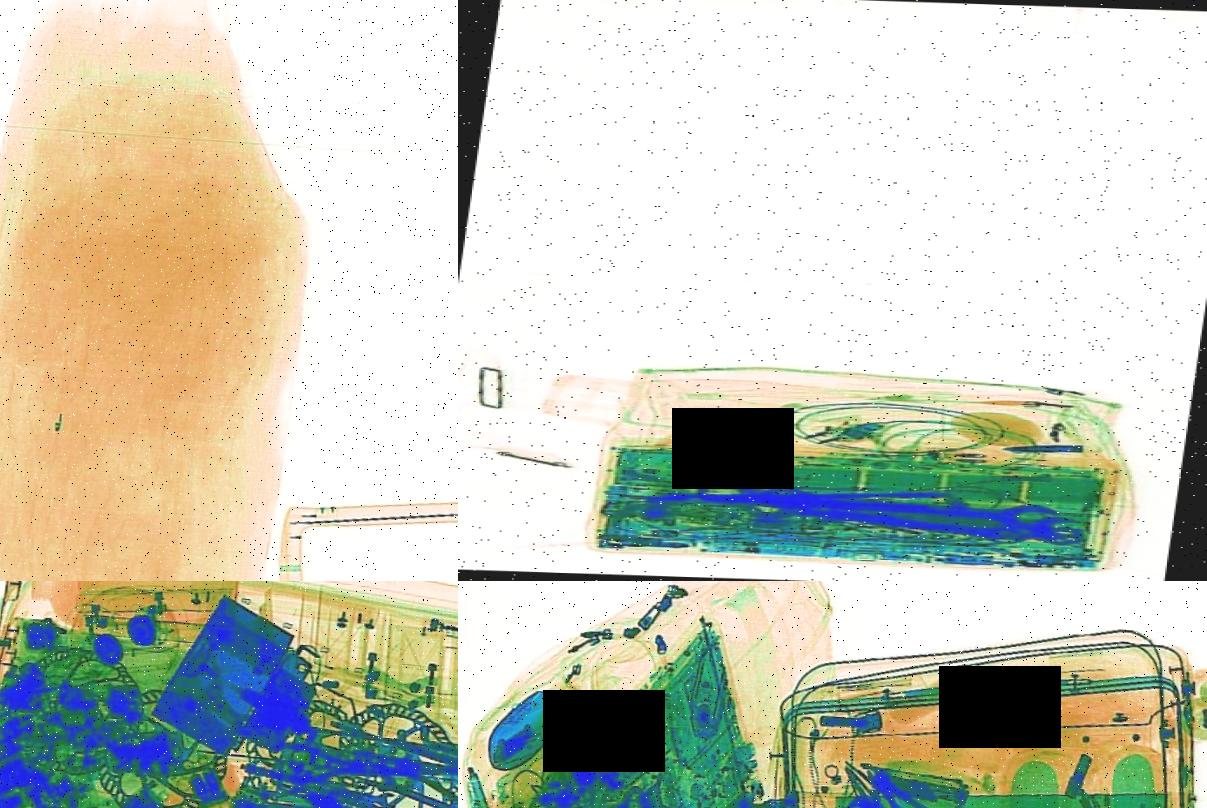Pliers: (840, 752, 988, 808)
Wrench: (692, 473, 1064, 535), (289, 784, 458, 808)
